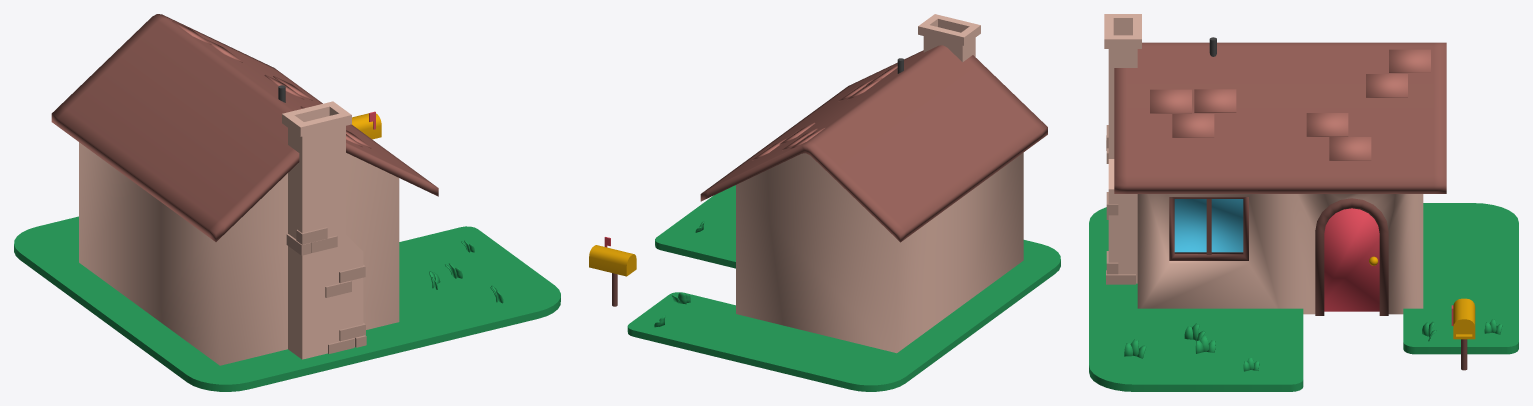
File: cartoon-house.glb
3 renders of one model, left to right at view 1: azimuth 30°, elevation 25°; view 2: azimuth 150°, elevation 25°; view 3: azimuth 270°, elevation 25°, orthographic. The views are drawn at different scales.
Parts seen in each view (by area): view 1: Roof, House, Grass.001, Chimney, Cube.008; view 2: House, Roof, Grass.001, Chimney, Cube.008; view 3: Roof, Grass.001, House, Door, Chimney, Door Frame, Window, Shingle, Shingle.001, Shingle.002, Shingle.003, Shingle.004 (+3 smaller).
Part boxes in pixels (<box>): Roof: <box>51,14,438,241</box>; House: <box>79,142,399,365</box>; Grass.001: <box>14,216,560,391</box>; Chimney: <box>282,101,363,359</box>; Cube.008: <box>352,113,381,139</box>; House: <box>736,152,1023,353</box>; Roof: <box>700,45,1047,242</box>; Grass.001: <box>627,185,1060,391</box>; Chimney: <box>918,14,980,62</box>; Cube.008: <box>589,245,636,276</box>; Roof: <box>1114,42,1446,193</box>; Grass.001: <box>1089,203,1518,391</box>; House: <box>1137,194,1423,314</box>; Door: <box>1324,208,1379,311</box>; Chimney: <box>1104,14,1141,283</box>; Door Frame: <box>1315,198,1388,315</box>; Window: <box>1169,197,1248,260</box>; Shingle: <box>1150,89,1191,113</box>; Shingle.001: <box>1194,89,1236,112</box>; Shingle.002: <box>1172,114,1214,137</box>; Shingle.003: <box>1306,113,1348,136</box>; Shingle.004: <box>1329,137,1371,160</box>.
Bounding box in the file's own units: 7.92 × 4.98 × 7.92.
